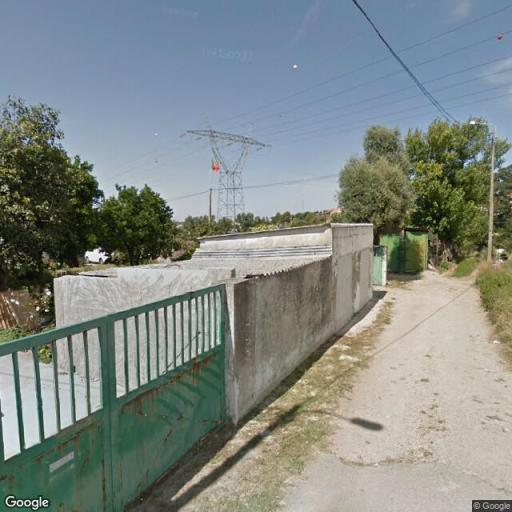wt_5: (178, 118, 270, 236)
